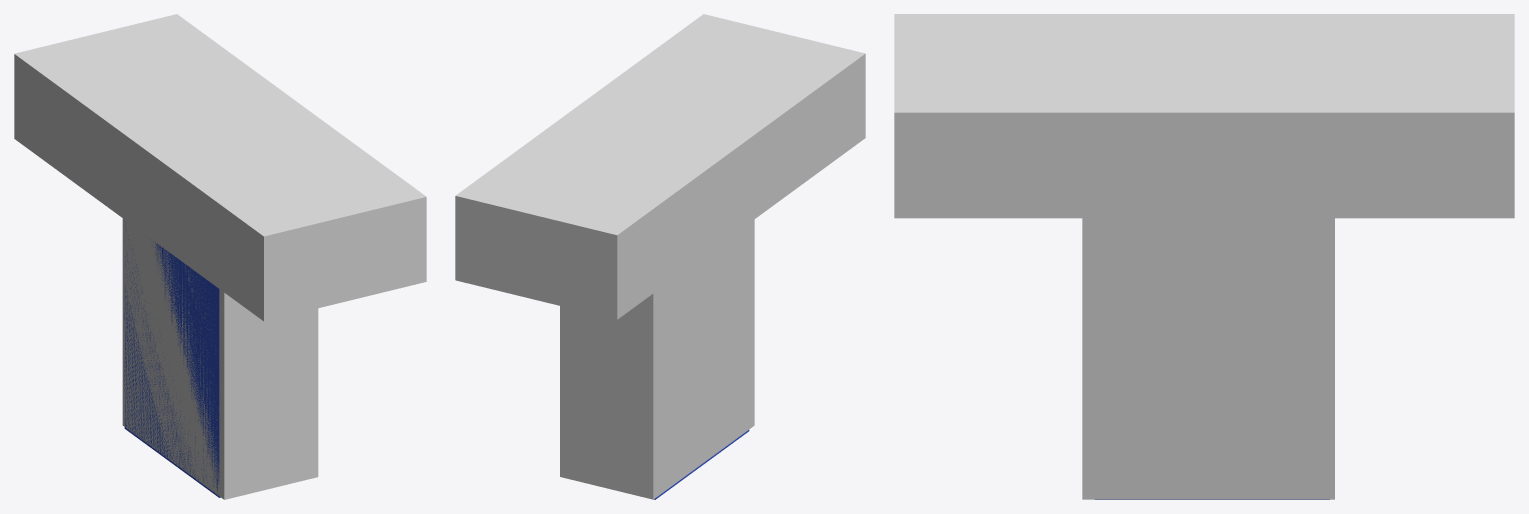
The model's file is Normal.gltf.
3 renders of one model, left to right at view 1: azimuth 30°, elevation 25°; view 2: azimuth 150°, elevation 25°; view 3: azimuth 270°, elevation 25°, orthographic. The views are drawn at different scales.
Visible parts, largest first — view 1: 立方体, Cube; view 2: 立方体; view 3: 立方体.
Part boxes in pixels (bbox=[...]): 立方体: bbox=[14, 14, 426, 499]; Cube: bbox=[124, 221, 220, 497]; 立方体: bbox=[455, 14, 865, 499]; 立方体: bbox=[894, 14, 1514, 499].
Bounding box in the file's own units: 1.89 × 3.64 × 5.01.
